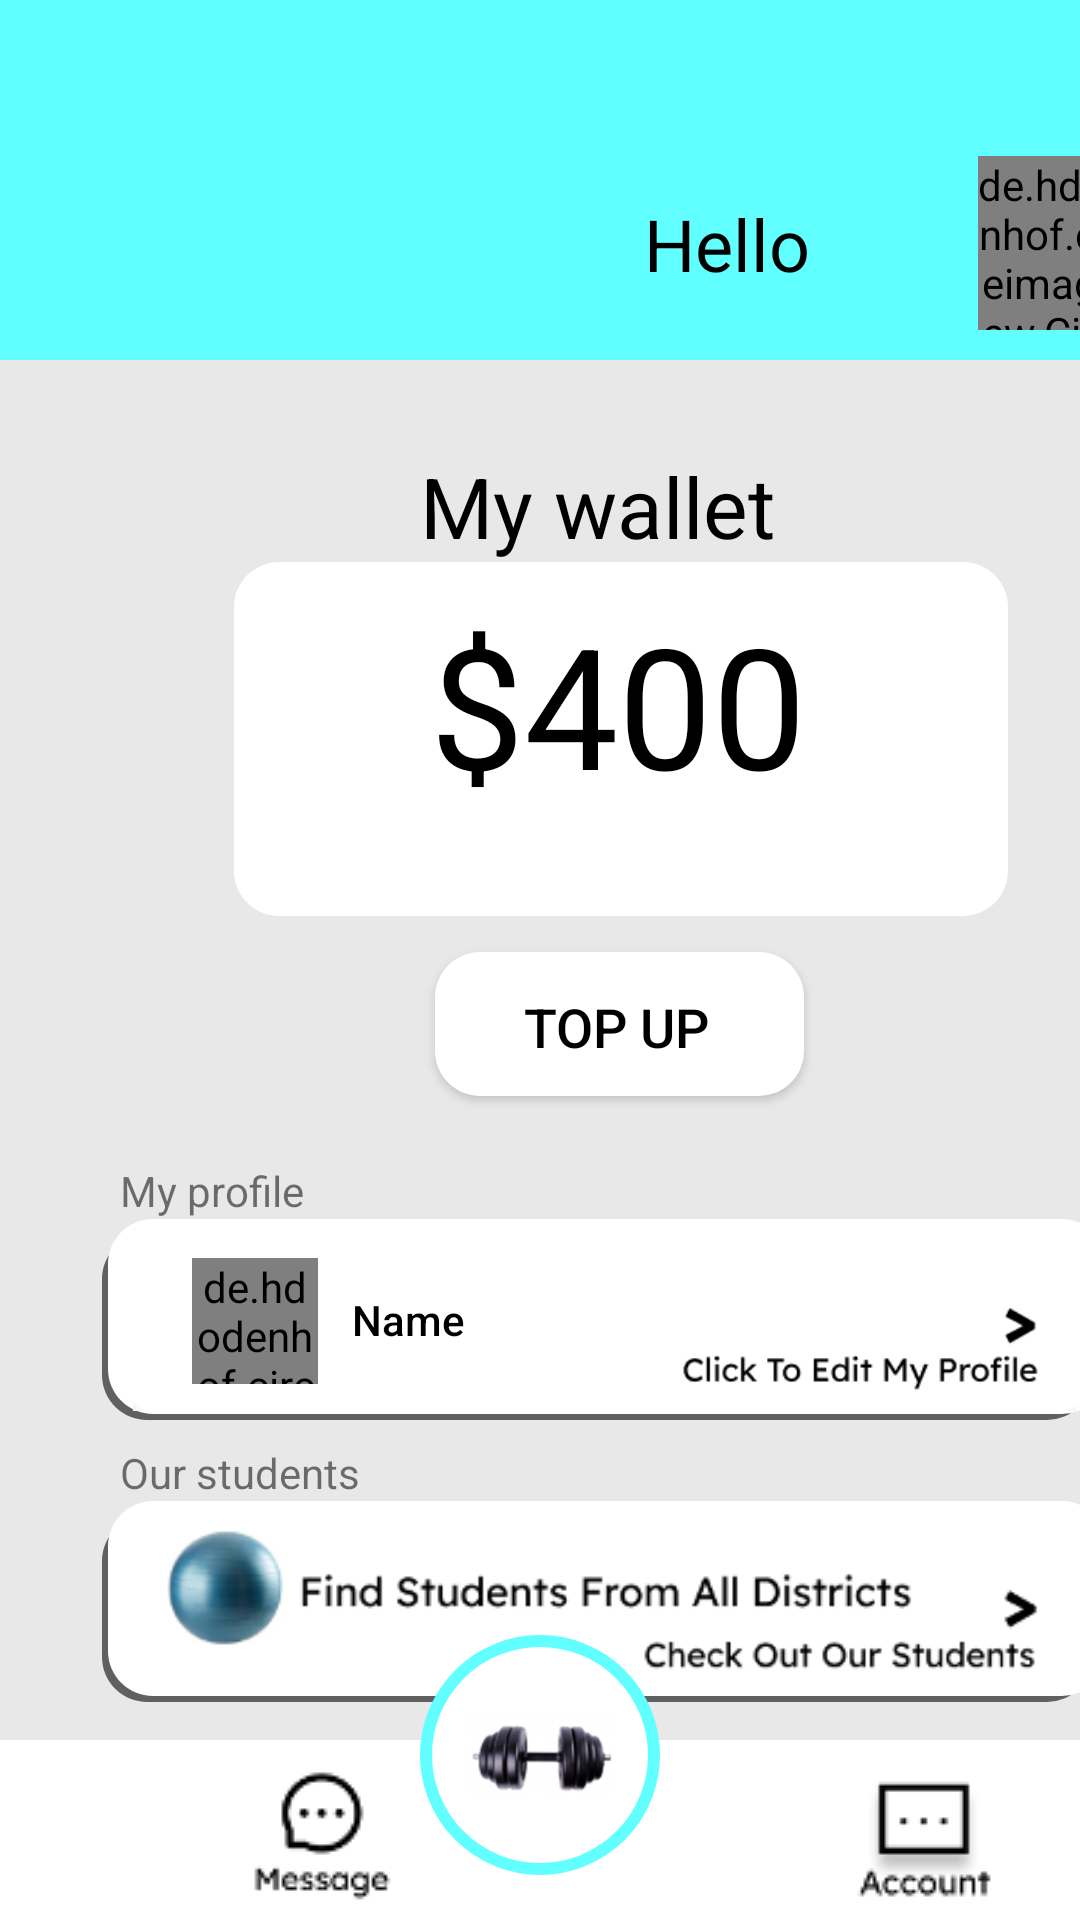

Named icons in this screenshot (1080px x 1920px) and their bounding boxes, (x1, y1, x2, y2):
dumpbell: (420, 1635, 660, 1875)
